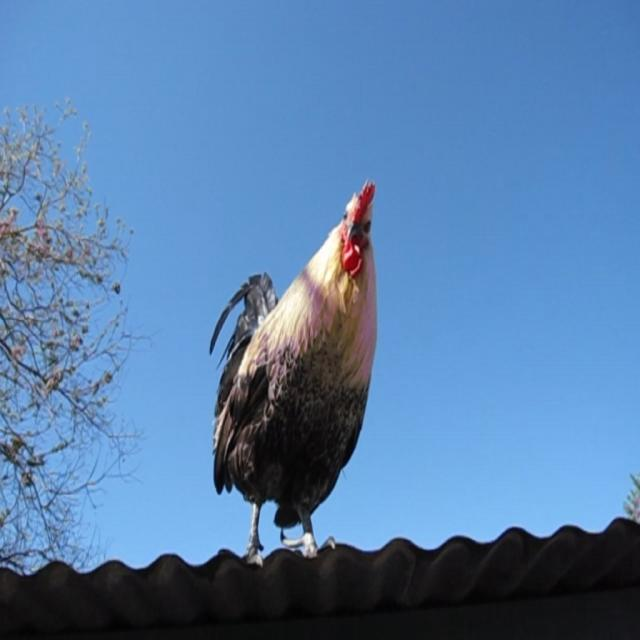Chicken: (194, 182, 396, 562)
